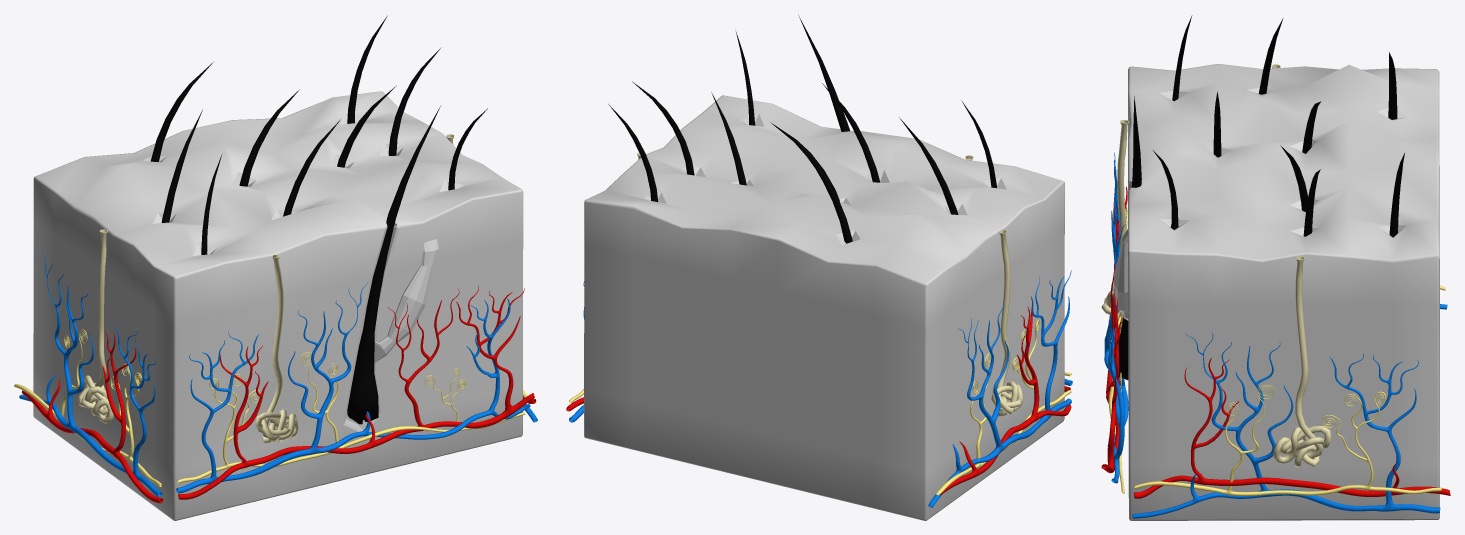
The model's file is skin.glb.
3 views of the same model, side by side, from view 1: azimuth 30°, elevation 25°; view 2: azimuth 150°, elevation 25°; view 3: azimuth 270°, elevation 25° (orthographic). The views are drawn at different scales.
Parts seen in each view (by area): view 1: Skin, Hairs, Blue, Red, Tube, yellow, muscle; view 2: Skin, Hairs, Blue, Red, Tube, yellow; view 3: Skin, Blue, Hairs, Red, Tube, yellow, muscle.
Boxes of the visible parts, x1,y1,x2,y2 form: Skin: (33,91,523,520); Hairs: (150,15,487,424); Blue: (19,251,537,496); Red: (22,286,536,503); Tube: (78,134,454,443); yellow: (14,329,527,486); muscle: (374,239,438,363); Skin: (584,95,1064,520); Hairs: (608,15,996,243); Blue: (569,270,1072,507); Red: (566,307,1071,495); Tube: (637,153,1022,416); yellow: (569,319,1071,495); Skin: (1128,63,1439,520); Blue: (1104,152,1447,518); Hairs: (1118,15,1404,380); Red: (1101,186,1450,498); Tube: (1101,64,1331,467); yellow: (1108,207,1445,496); muscle: (1114,229,1128,320).
Size of the model in its own units: 4.45 by 3.76 by 3.09.
